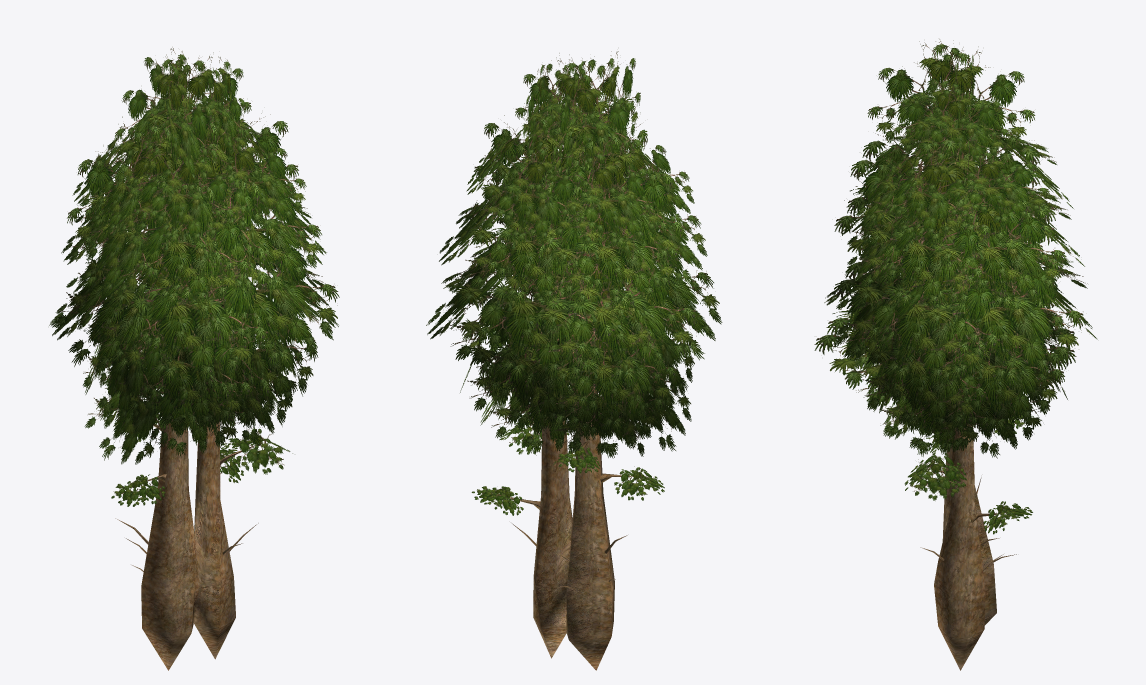
The model's file is decd_endr_blumbush_l1.fbx.
3 renders of one model, left to right at view 1: azimuth 30°, elevation 25°; view 2: azimuth 150°, elevation 25°; view 3: azimuth 270°, elevation 25°, orthographic.
Parts seen in each view (by area): view 1: mesh_node; view 2: mesh_node; view 3: mesh_node.
Part boxes in pixels (x1,y1,x2,y2): mesh_node: (49, 47, 339, 670); mesh_node: (426, 51, 722, 670); mesh_node: (814, 39, 1097, 670).
Bounding box in the file's own units: 26.49 × 50.32 × 25.35.
Materials: 2 (2 with a texture image).
